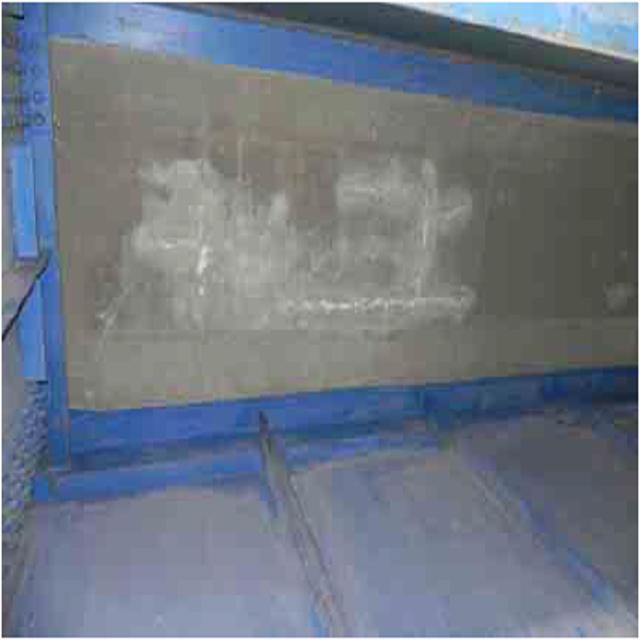freelime: (142, 177, 487, 337)
